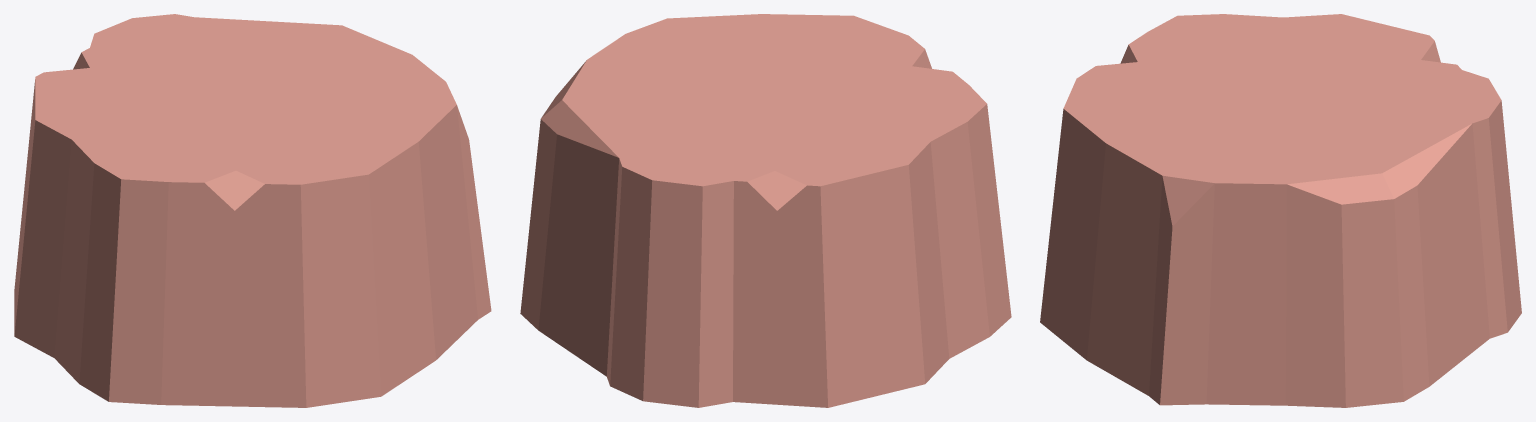
File: SuperGrid_Hexagon_011_Vlad.fbx
3 renders of one model, left to right at view 1: azimuth 30°, elevation 25°; view 2: azimuth 150°, elevation 25°; view 3: azimuth 270°, elevation 25°, orthographic.
Parts seen in each view (by area): view 1: SuperGrid_Hexagon.011; view 2: SuperGrid_Hexagon.011; view 3: SuperGrid_Hexagon.011.
Boxes of the visible parts, left/top/right/bottom form: SuperGrid_Hexagon.011: left=14, top=14, right=491, bottom=407; SuperGrid_Hexagon.011: left=520, top=14, right=1011, bottom=407; SuperGrid_Hexagon.011: left=1040, top=14, right=1521, bottom=407.
Size of the model in its own units: 19053 by 10000 by 20464.
